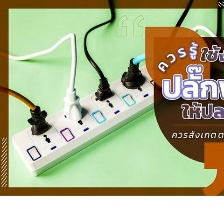three_eye_plug: (8, 27, 223, 179)
